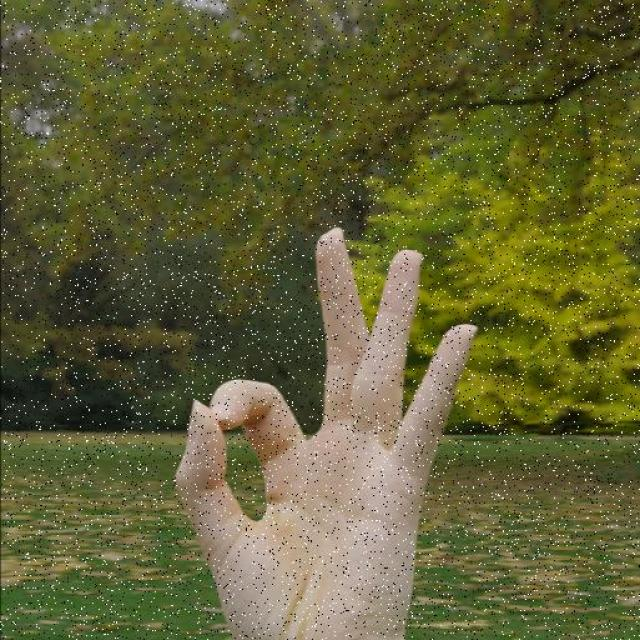F: (167, 224, 483, 640)
